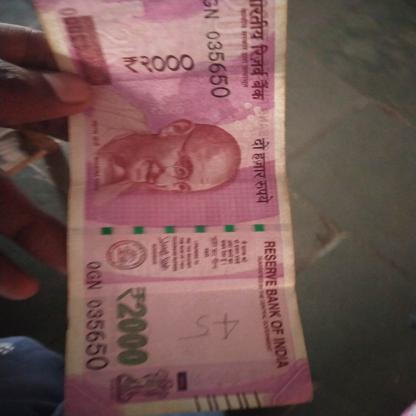New2000Front: (38, 4, 309, 416)
